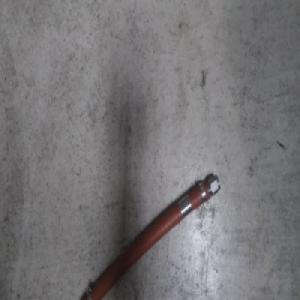Hose: (73, 170, 220, 300)
